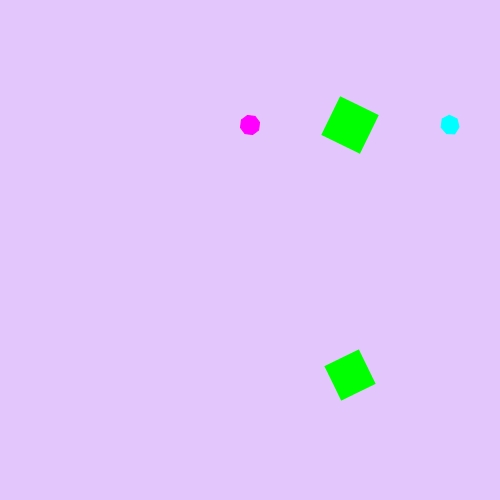heptagon: (436, 111, 465, 139)
octagon: (235, 110, 265, 140)
quadrilateral: (317, 92, 383, 158), (320, 345, 380, 405)
